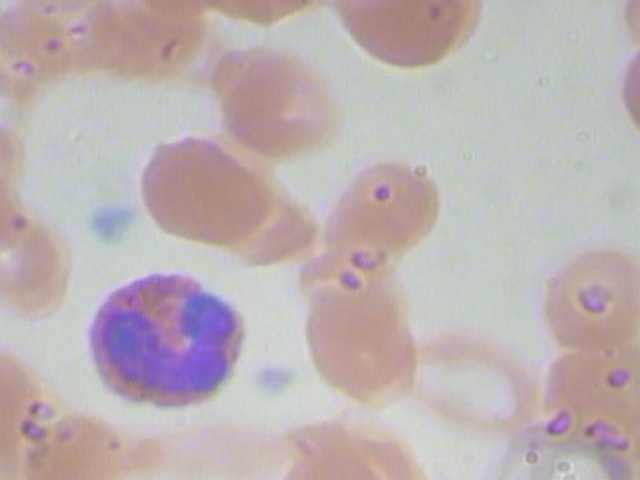Platelets: (90, 201, 137, 243), (250, 362, 301, 399)
RBC: (126, 129, 277, 248), (399, 324, 543, 436), (207, 43, 345, 158), (309, 151, 445, 265), (297, 284, 420, 398), (536, 339, 640, 473), (327, 0, 482, 78), (537, 242, 640, 356), (13, 404, 149, 480), (0, 199, 89, 314), (0, 0, 76, 91), (0, 116, 29, 210)
WBC: (80, 270, 257, 412)
